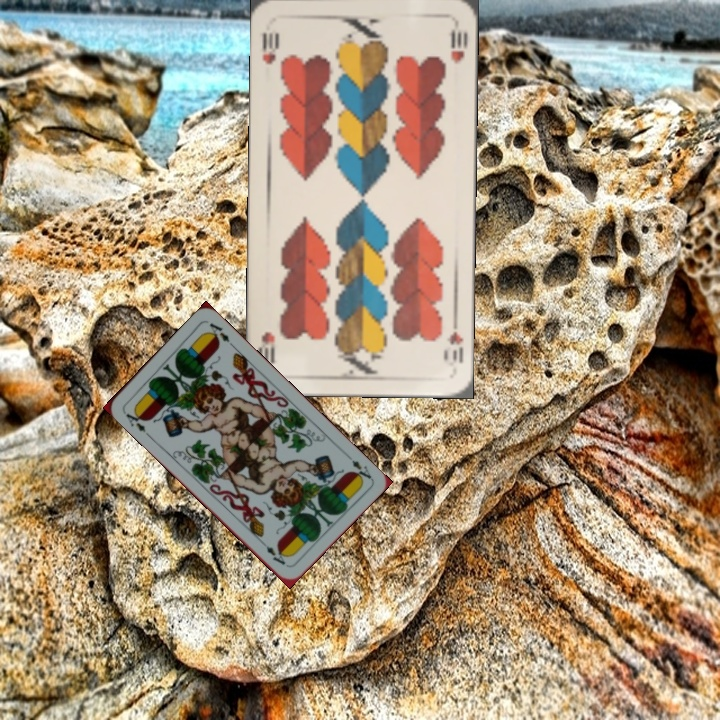EA: (119, 406, 149, 435), (348, 456, 374, 484)
H10: (439, 313, 466, 366), (258, 28, 282, 67)
